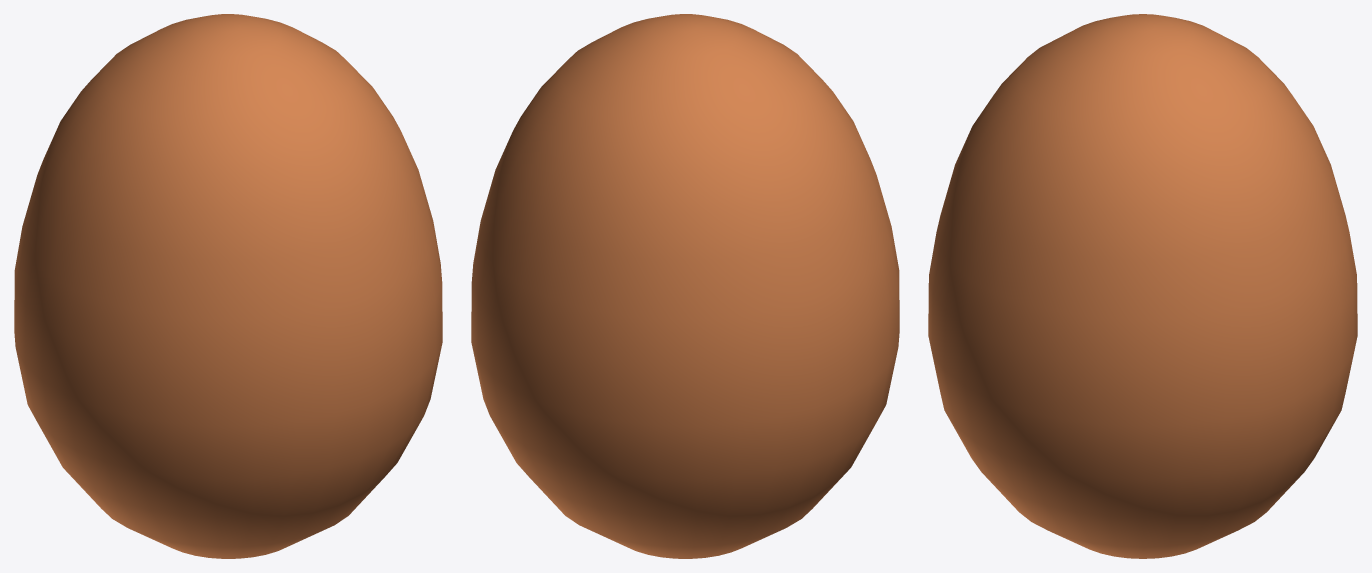
The model's file is telur.fbx.
3 renders of one model, left to right at view 1: azimuth 30°, elevation 25°; view 2: azimuth 150°, elevation 25°; view 3: azimuth 270°, elevation 25°, orthographic.
Parts seen in each view (by area): view 1: Cylinder; view 2: Cylinder; view 3: Cylinder.
Part boxes in pixels (<box>): Cylinder: <box>14,14,442,558</box>; Cylinder: <box>471,14,899,558</box>; Cylinder: <box>928,14,1357,558</box>.
Size of the model in its own units: 166 by 218 by 166.
